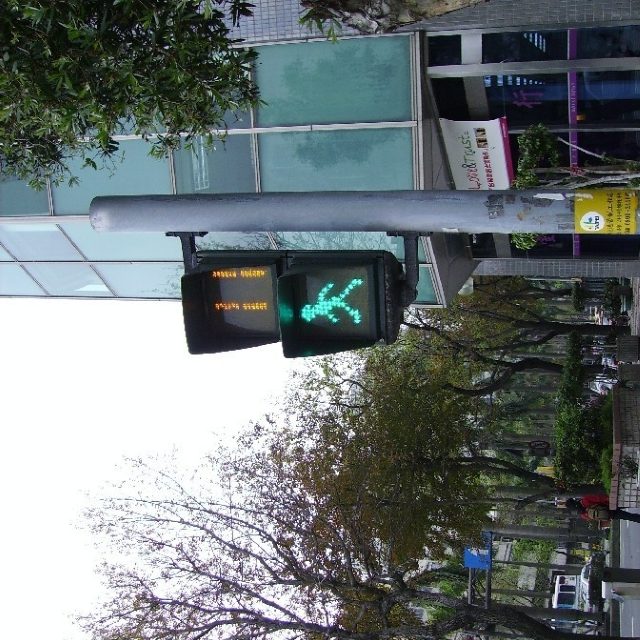green_light: (183, 253, 404, 355)
